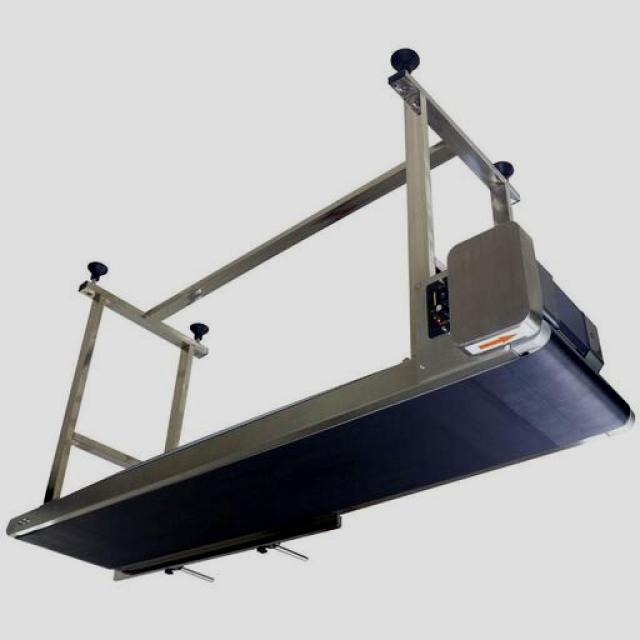conveyor: (20, 321, 635, 576)
